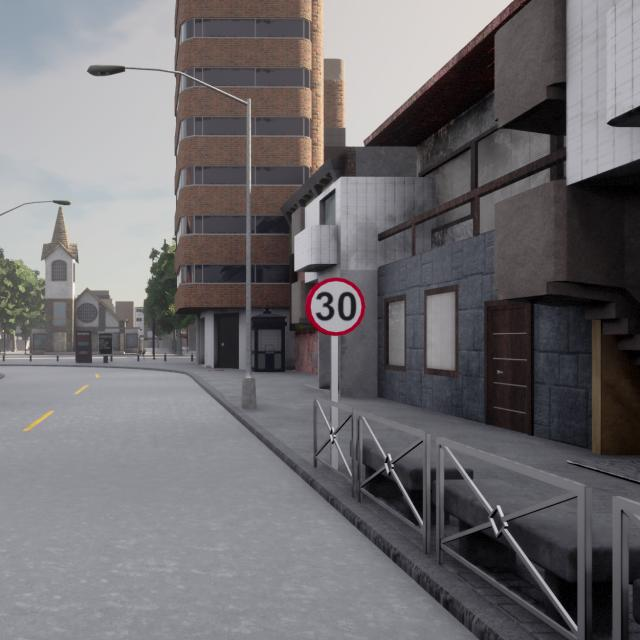Speed Limit -30-: (306, 279, 364, 335)
